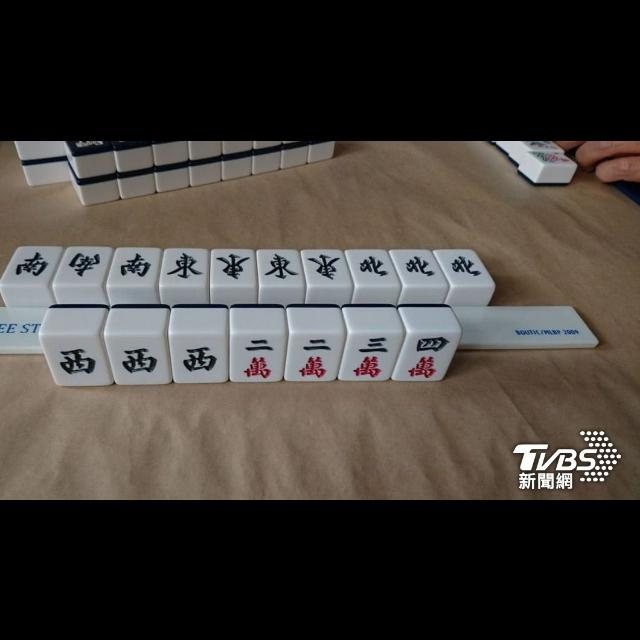c2: (231, 332, 283, 382), (288, 332, 339, 380)
c3: (344, 332, 396, 380)
c4: (401, 332, 454, 380)
we: (162, 248, 208, 286), (212, 248, 254, 286), (305, 249, 347, 285), (259, 250, 301, 286)
wn: (397, 248, 441, 284), (440, 250, 486, 284), (351, 250, 394, 286)
ws: (5, 246, 55, 286), (58, 247, 106, 286), (110, 248, 158, 286)
ww: (48, 335, 104, 385), (110, 335, 166, 383), (172, 334, 226, 382)
